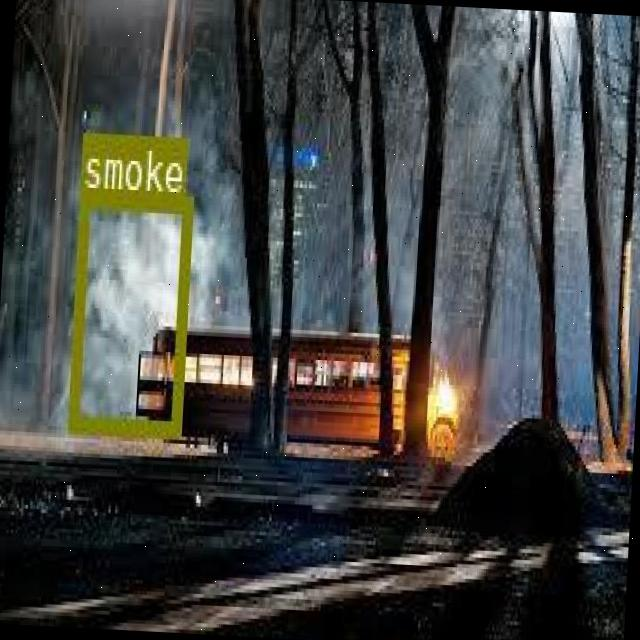smoke: (67, 190, 190, 436)
